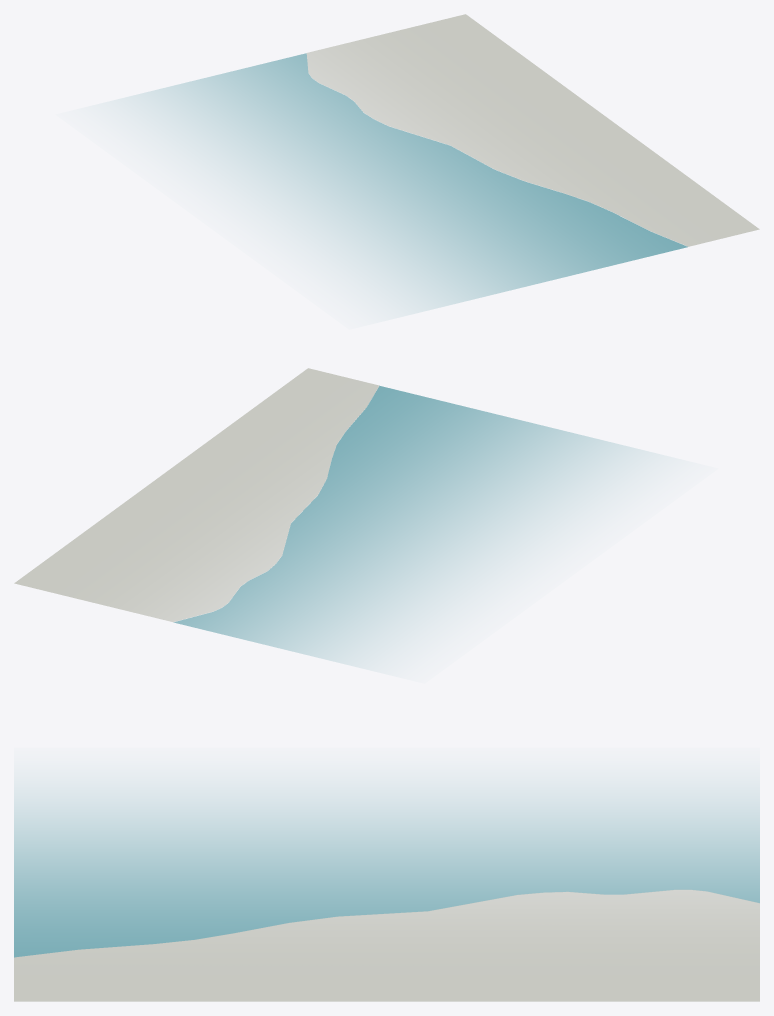
3 renders of one model, top to bottom at view 1: azimuth 30°, elevation 25°; view 2: azimuth 150°, elevation 25°; view 3: azimuth 270°, elevation 25°, orthographic. The views are drawn at different scales.
Parts seen in each view (by area): view 1: city; view 2: city; view 3: city.
Boxes of the visible parts, bbox=[...] form: city: bbox=[116, 14, 759, 314]; city: bbox=[14, 368, 657, 668]; city: bbox=[14, 785, 759, 1001].
Bounding box in the file's own units: 443 × 0.18 × 500.
